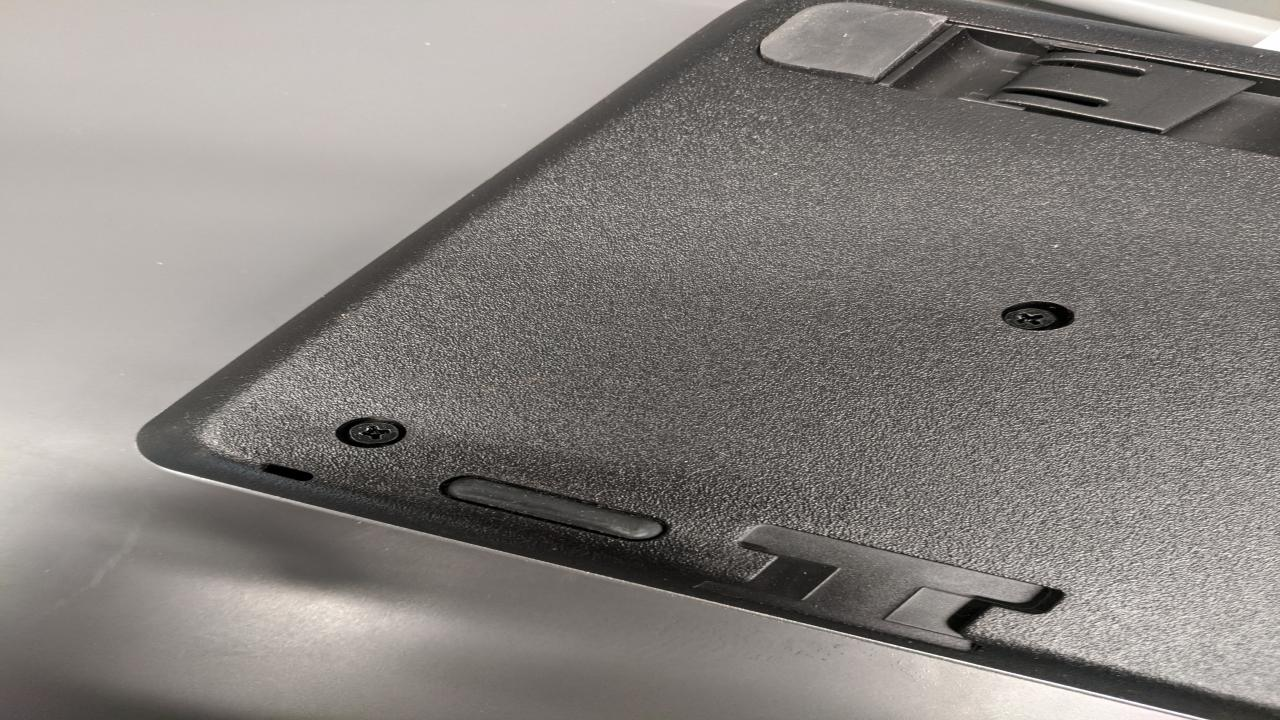CRS: (1004, 302, 1061, 331), (342, 419, 408, 444)
